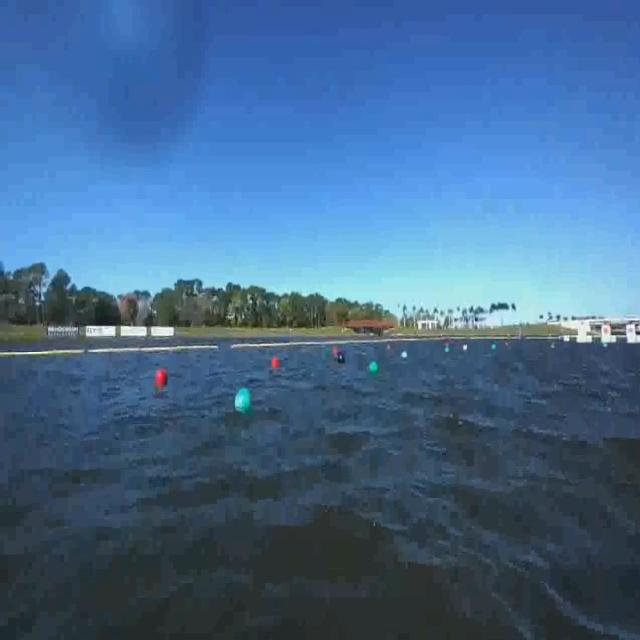green-buoy: (234, 386, 250, 411), (369, 360, 376, 373)
red-buoy: (155, 367, 168, 387), (272, 356, 280, 368)
